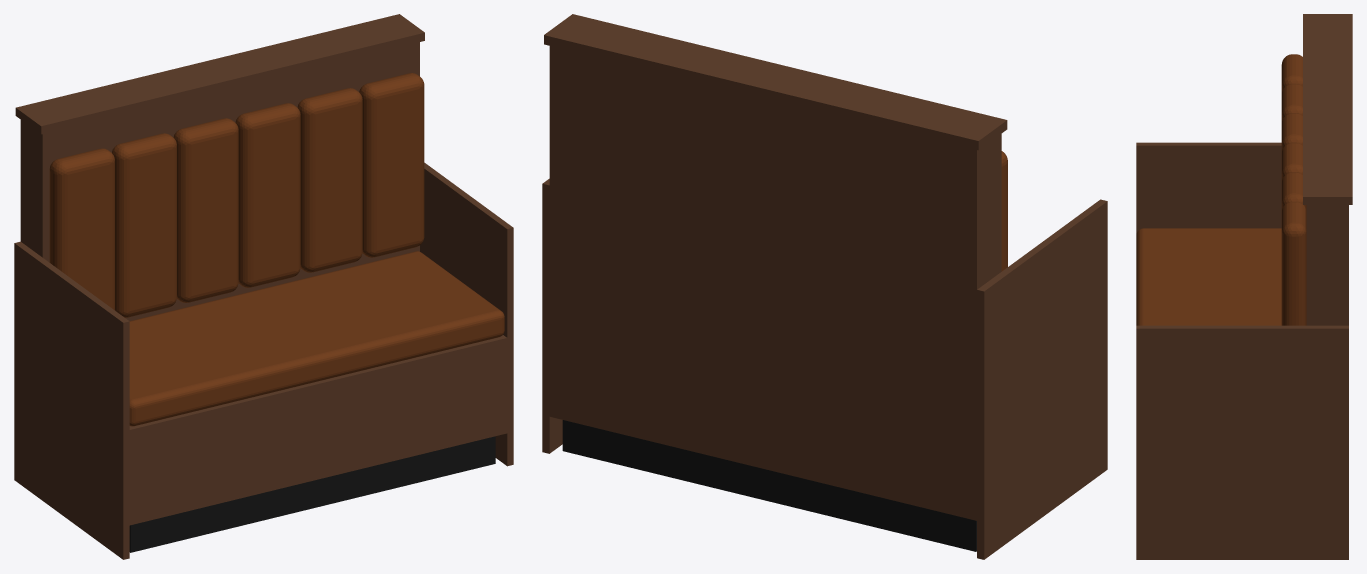
The model's file is 070_cafe_booth_bench_single.glb.
3 views of the same model, side by side, from view 1: azimuth 30°, elevation 25°; view 2: azimuth 150°, elevation 25°; view 3: azimuth 270°, elevation 25° (orthographic). The views are drawn at different scales.
Parts seen in each view (by area): view 1: 006_seat_cushion, 005_front_kick_panel, 015_end_panel_l, 007_back_frame, 014_top_cap, 012_back_channel_5, 011_back_channel_4, 013_back_channel_6, 010_back_channel_3, 009_back_channel_2, 000_plinth, 016_end_panel_r (+5 smaller); view 2: 007_back_frame, 015_end_panel_l, 014_top_cap, 000_plinth, 004_carcass_bottom, 003_carcass_top, 016_end_panel_r, 002_carcass_side_r, 008_back_channel_1, 001_carcass_side_l; view 3: 016_end_panel_r, 006_seat_cushion, 015_end_panel_l, 014_top_cap, 007_back_frame, 013_back_channel_6, 012_back_channel_5, 011_back_channel_4, 008_back_channel_1, 010_back_channel_3, 009_back_channel_2.
Boxes of the visible parts, x1=… form: 006_seat_cushion: x1=129, y1=251, x2=504, y2=426; 005_front_kick_panel: x1=129, y1=335, x2=507, y2=521; 015_end_panel_l: x1=14, y1=241, x2=129, y2=559; 007_back_frame: x1=20, y1=42, x2=419, y2=321; 014_top_cap: x1=15, y1=14, x2=424, y2=134; 012_back_channel_5: x1=297, y1=88, x2=362, y2=272; 011_back_channel_4: x1=235, y1=103, x2=300, y2=287; 013_back_channel_6: x1=359, y1=73, x2=424, y2=257; 010_back_channel_3: x1=173, y1=118, x2=238, y2=302; 009_back_channel_2: x1=112, y1=133, x2=176, y2=317; 000_plinth: x1=129, y1=436, x2=495, y2=552; 016_end_panel_r: x1=420, y1=162, x2=513, y2=466; 007_back_frame: x1=549, y1=46, x2=1001, y2=520; 015_end_panel_l: x1=977, y1=199, x2=1107, y2=559; 014_top_cap: x1=544, y1=14, x2=1007, y2=150; 000_plinth: x1=562, y1=420, x2=976, y2=551; 004_carcass_bottom: x1=556, y1=411, x2=969, y2=518; 003_carcass_top: x1=551, y1=309, x2=975, y2=419; 016_end_panel_r: x1=542, y1=178, x2=562, y2=453; 002_carcass_side_r: x1=549, y1=308, x2=556, y2=418; 008_back_channel_1: x1=1001, y1=151, x2=1007, y2=271; 001_carcass_side_l: x1=970, y1=412, x2=976, y2=520; 016_end_panel_r: x1=1136, y1=325, x2=1348, y2=559; 006_seat_cushion: x1=1136, y1=228, x2=1281, y2=325; 015_end_panel_l: x1=1136, y1=142, x2=1281, y2=233; 014_top_cap: x1=1303, y1=14, x2=1352, y2=204; 007_back_frame: x1=1306, y1=205, x2=1348, y2=325; 013_back_channel_6: x1=1281, y1=201, x2=1306, y2=325; 012_back_channel_5: x1=1281, y1=172, x2=1306, y2=211; 011_back_channel_4: x1=1281, y1=142, x2=1302, y2=181; 008_back_channel_1: x1=1281, y1=54, x2=1302, y2=93; 010_back_channel_3: x1=1281, y1=113, x2=1302, y2=152; 009_back_channel_2: x1=1281, y1=84, x2=1302, y2=122.
Size of the model in its own units: 1.24 by 1.12 by 0.61.
